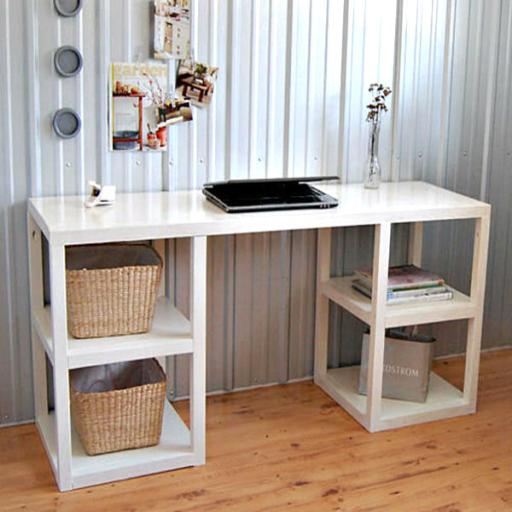desk: (26, 180, 490, 490)
wall: (0, 0, 512, 425)
